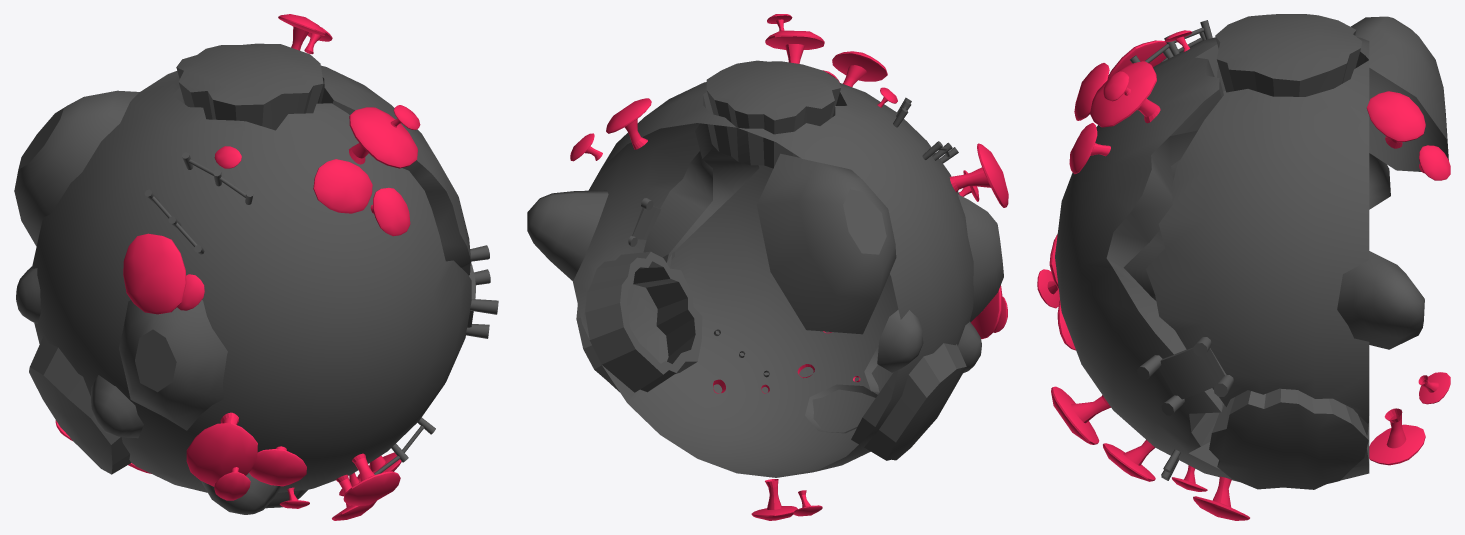
File: IG_planet_blockout_01.fbx
The picture shows the model from 3 angles, left to right: view 1: azimuth 30°, elevation 25°; view 2: azimuth 150°, elevation 25°; view 3: azimuth 270°, elevation 25°; orthographic projection. The views are drawn at different scales.
Parts seen in each view (by area): view 1: planet_base, hill_01, hill_005, Mountain_01, shroom_01, shroom_010, shroom_002, shroom_003, hill_002, shroom_011, shroom_013, shroom_004 (+9 smaller); view 2: planet_base, hill_005, Mountain_01, hill_007, hill_01, hill_006, shroom_01, shroom_003, shroom_002, shroom_006, shroom_010, shroom_018 (+3 smaller); view 3: planet_base, hill_005, hill_007, bridge, shroom_002, shroom_006, shroom_018, shroom_013, shroom_014, shroom_004, shroom_016, shroom_003 (+7 smaller).
Part boxes in pixels (x1,y1,x2,y2): planet_base: [32, 43, 471, 492]; hill_01: [119, 300, 227, 430]; hill_005: [14, 90, 139, 246]; Mountain_01: [29, 335, 130, 474]; shroom_01: [123, 233, 186, 314]; shroom_010: [186, 412, 257, 486]; shroom_002: [349, 107, 417, 168]; shroom_003: [313, 159, 372, 213]; hill_002: [91, 375, 143, 438]; shroom_011: [249, 446, 306, 486]; shroom_013: [343, 453, 400, 505]; shroom_004: [370, 187, 410, 236]; planet_base: [573, 60, 973, 477]; hill_005: [757, 153, 896, 334]; Mountain_01: [851, 343, 966, 460]; hill_007: [527, 190, 608, 280]; hill_01: [958, 194, 1003, 322]; hill_006: [877, 310, 923, 372]; shroom_01: [949, 143, 1008, 207]; shroom_003: [832, 51, 887, 86]; shroom_002: [765, 30, 824, 63]; shroom_006: [606, 98, 651, 149]; shroom_010: [971, 285, 1002, 339]; shroom_018: [751, 479, 797, 520]; planet_base: [1055, 14, 1369, 489]; hill_005: [1351, 16, 1448, 171]; hill_007: [1337, 251, 1424, 349]; bridge: [1137, 337, 1233, 415]; shroom_002: [1090, 61, 1160, 127]; shroom_006: [1366, 91, 1425, 148]; shroom_018: [1369, 408, 1425, 465]; shroom_013: [1051, 386, 1110, 444]; shroom_014: [1103, 440, 1155, 481]; shroom_004: [1069, 123, 1110, 174]; shroom_016: [1193, 476, 1249, 520]; shroom_003: [1074, 63, 1109, 120].
Size of the model in its own units: 181 by 179 by 150.
